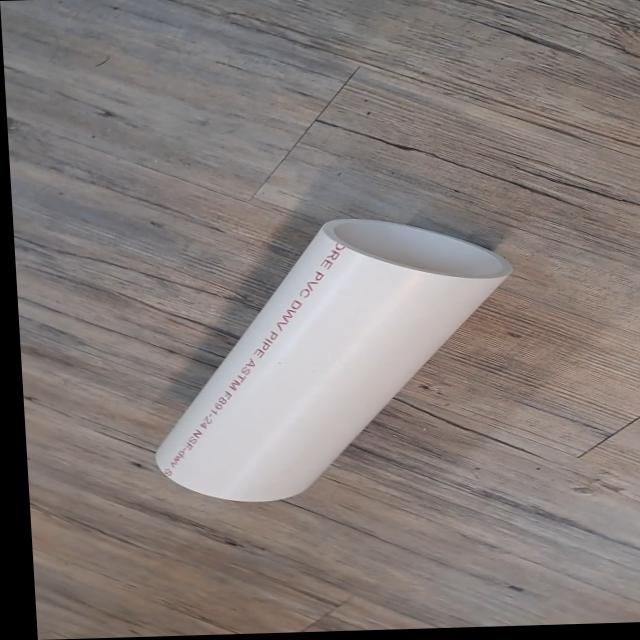CORAL: (85, 181, 533, 534)
